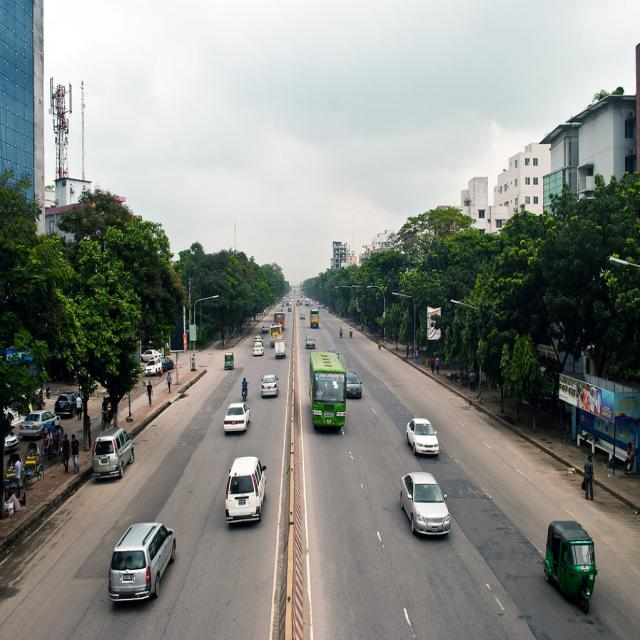black: (58, 380, 82, 420), (343, 370, 365, 406), (55, 392, 82, 417), (302, 332, 317, 352), (159, 358, 174, 370)
silver: (394, 457, 457, 569), (108, 523, 175, 610), (92, 428, 134, 482), (20, 410, 62, 437), (261, 375, 279, 401), (5, 426, 20, 455)
white: (221, 458, 269, 531), (398, 418, 449, 458), (223, 403, 250, 434), (144, 359, 159, 378), (138, 349, 160, 358), (251, 343, 265, 357)
